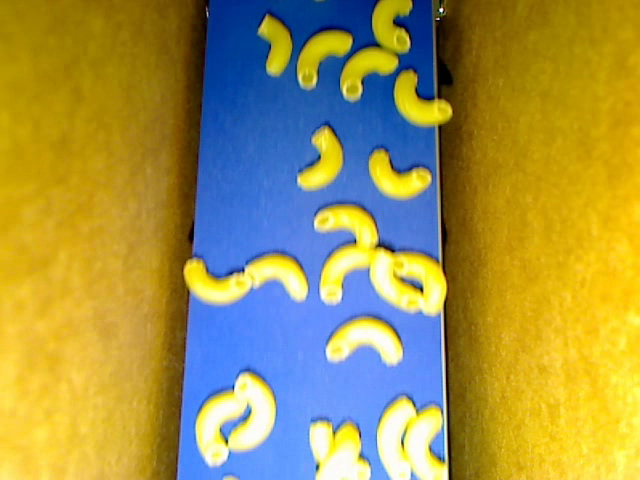elbow: (195, 388, 248, 467), (325, 315, 403, 366), (228, 372, 277, 453), (376, 392, 418, 479), (182, 255, 252, 307), (393, 68, 453, 128), (369, 248, 424, 312), (392, 251, 447, 315), (295, 31, 353, 90), (403, 403, 448, 479), (318, 243, 374, 304), (368, 148, 432, 200), (295, 125, 344, 192), (340, 48, 399, 103), (243, 253, 309, 302), (313, 203, 380, 248), (255, 12, 292, 77), (372, 1, 411, 56), (309, 419, 361, 460), (313, 454, 370, 479)
